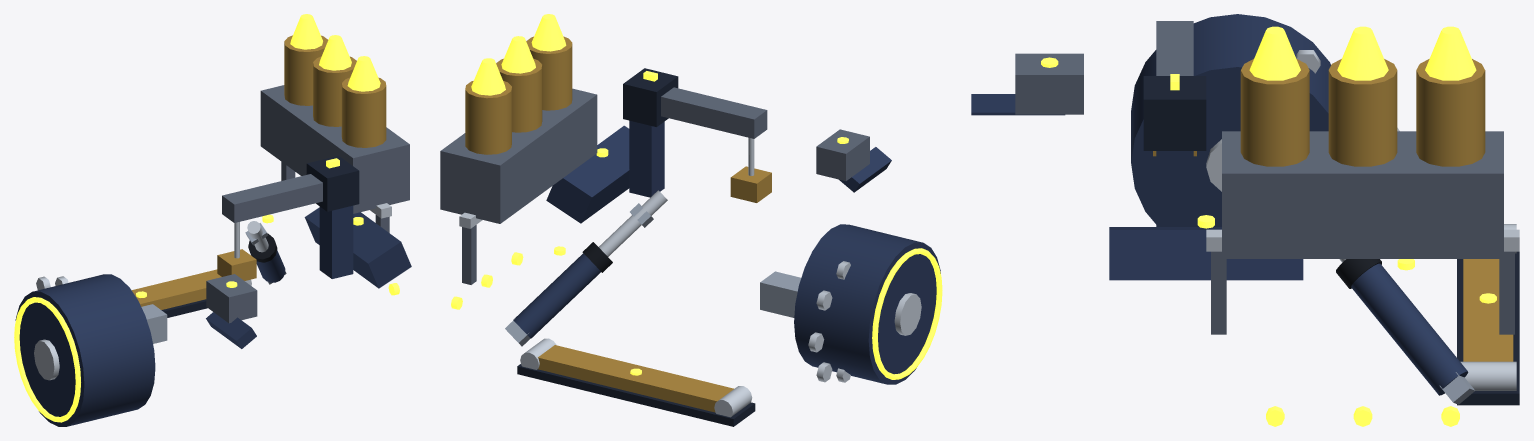
Rendered from tower_nova_rate_s10.glb.
3 renders of one model, left to right at view 1: azimuth 30°, elevation 25°; view 2: azimuth 150°, elevation 25°; view 3: azimuth 270°, elevation 25°, orthographic. The views are drawn at different scales.
Visible parts, largest first — view 1: nova_mag_drum, nova_hopper_ext, nova_hoist_chute_b, nova_hoist_arm, nova_shell_b0, nova_hoist_post, nova_hoist_motor, nova_ejector_box, nova_shell_b1, nova_shell_b2, nova_conveyor, nova_mag_glow (+11 smaller); view 2: nova_mag_drum, nova_hopper_ext, nova_conveyor, nova_hoist_chute_b, nova_hoist_arm, nova_shell_b2, nova_loader_ram_body, nova_hoist_post, nova_conveyor_frame, nova_hoist_motor, nova_ejector_box, nova_shell_b1 (+14 smaller); view 3: nova_hopper_ext, nova_mag_drum, nova_hoist_chute_b, nova_shell_b1, nova_shell_b2, nova_shell_b0, nova_loader_ram_body, nova_hoist_motor, nova_ejector_box, nova_conveyor, nova_hoist_post, nova_conveyor_frame (+12 smaller).
Boxes of the visible parts, x1,y1,x2,y2 form: nova_mag_drum: (15, 274, 155, 426); nova_hopper_ext: (260, 85, 409, 213); nova_hoist_chute_b: (304, 207, 411, 288); nova_hoist_arm: (222, 174, 322, 222); nova_shell_b0: (341, 77, 386, 147); nova_hoist_post: (319, 205, 353, 278); nova_hoist_motor: (306, 155, 359, 211); nova_ejector_box: (206, 274, 257, 323); nova_shell_b1: (313, 56, 356, 126); nova_shell_b2: (284, 35, 328, 105); nova_conveyor: (132, 269, 221, 309); nova_mag_glow: (14, 297, 80, 422); nova_mag_drum: (794, 224, 940, 384); nova_hopper_ext: (440, 88, 597, 223); nova_conveyor: (538, 345, 733, 412); nova_hoist_chute_b: (546, 125, 629, 223); nova_hoist_arm: (661, 87, 767, 138); nova_shell_b2: (465, 80, 511, 154); nova_loader_ram_body: (513, 253, 600, 338); nova_hoist_post: (629, 120, 664, 197); nova_conveyor_frame: (517, 364, 755, 426); nova_hoist_motor: (623, 68, 678, 126); nova_ejector_box: (816, 129, 869, 180); nova_shell_b1: (496, 58, 542, 132); nova_hopper_ext: (1222, 131, 1503, 258); nova_mag_drum: (1131, 14, 1330, 226); nova_hoist_chute_b: (1109, 227, 1303, 280); nova_shell_b1: (1328, 59, 1397, 166); nova_shell_b2: (1416, 59, 1485, 166); nova_shell_b0: (1240, 59, 1309, 166); nova_loader_ram_body: (1351, 263, 1468, 395); nova_hoist_motor: (1143, 76, 1206, 150); nova_ejector_box: (1015, 53, 1083, 114); nova_conveyor: (1463, 259, 1513, 361); nova_hoist_post: (1156, 151, 1193, 226); nova_conveyor_frame: (1457, 251, 1519, 405).
Size of the model in its own units: 2.06 by 1.48 by 1.75.
